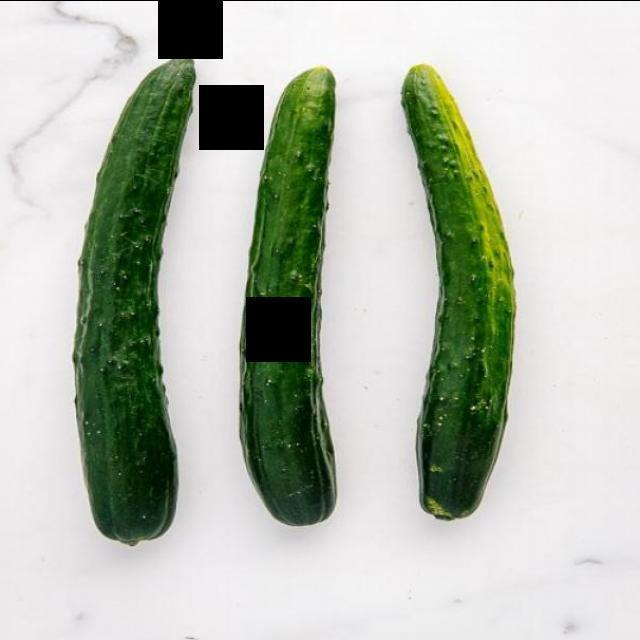cucumber: (68, 49, 198, 549), (396, 61, 522, 524), (233, 62, 344, 528)
